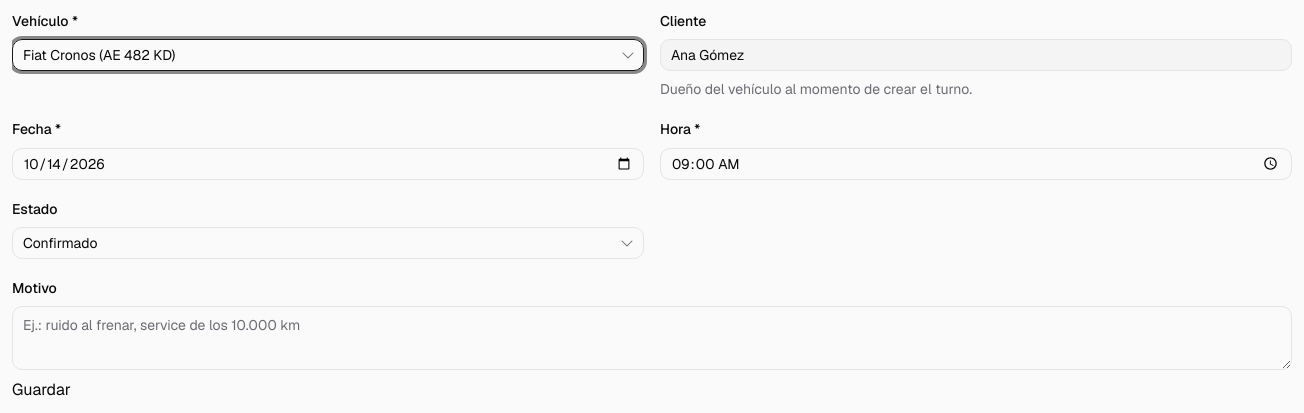
Test case: AppointmentForm client › follows the new vehicle's owner when an edit changes the vehicle
Step 1. Replace the text in the dropdown labelled "Vehículo *" with "gol" → (314, 55), box [13, 39, 616, 71]
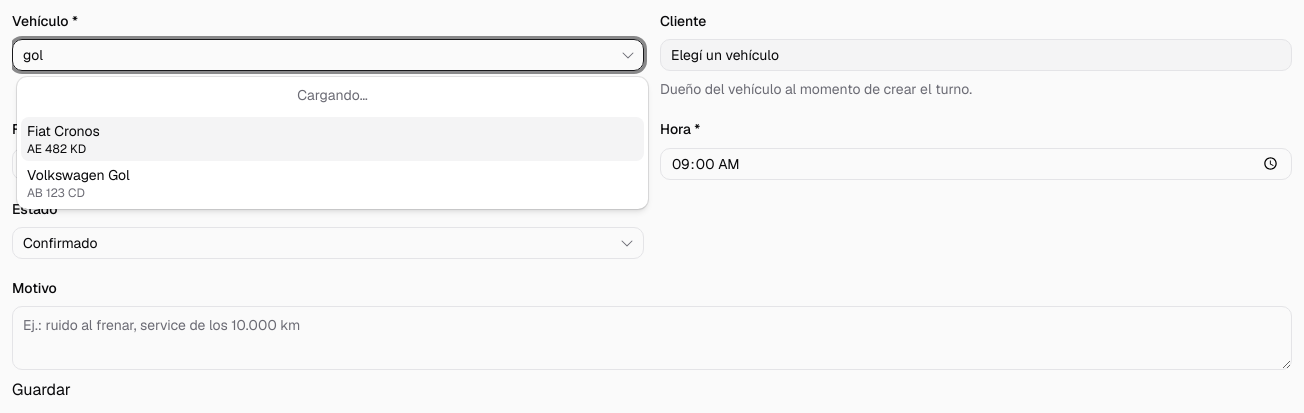
Step 2. Click the option "Volkswagen Gol AB 123 CD" → (78, 184), box [27, 166, 130, 201]
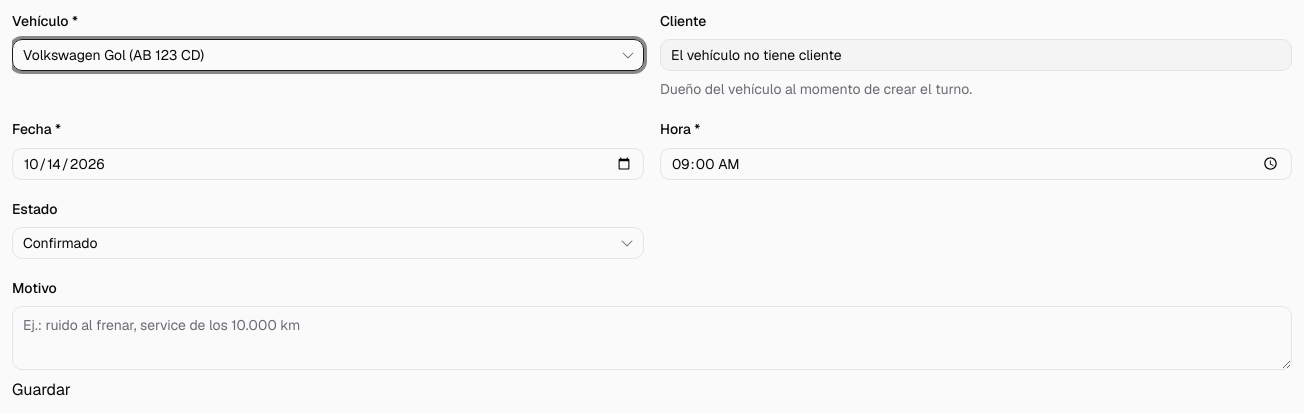
Now the field labelled "Cliente" holds "El vehículo no tiene cliente", box [660, 39, 1292, 71]
